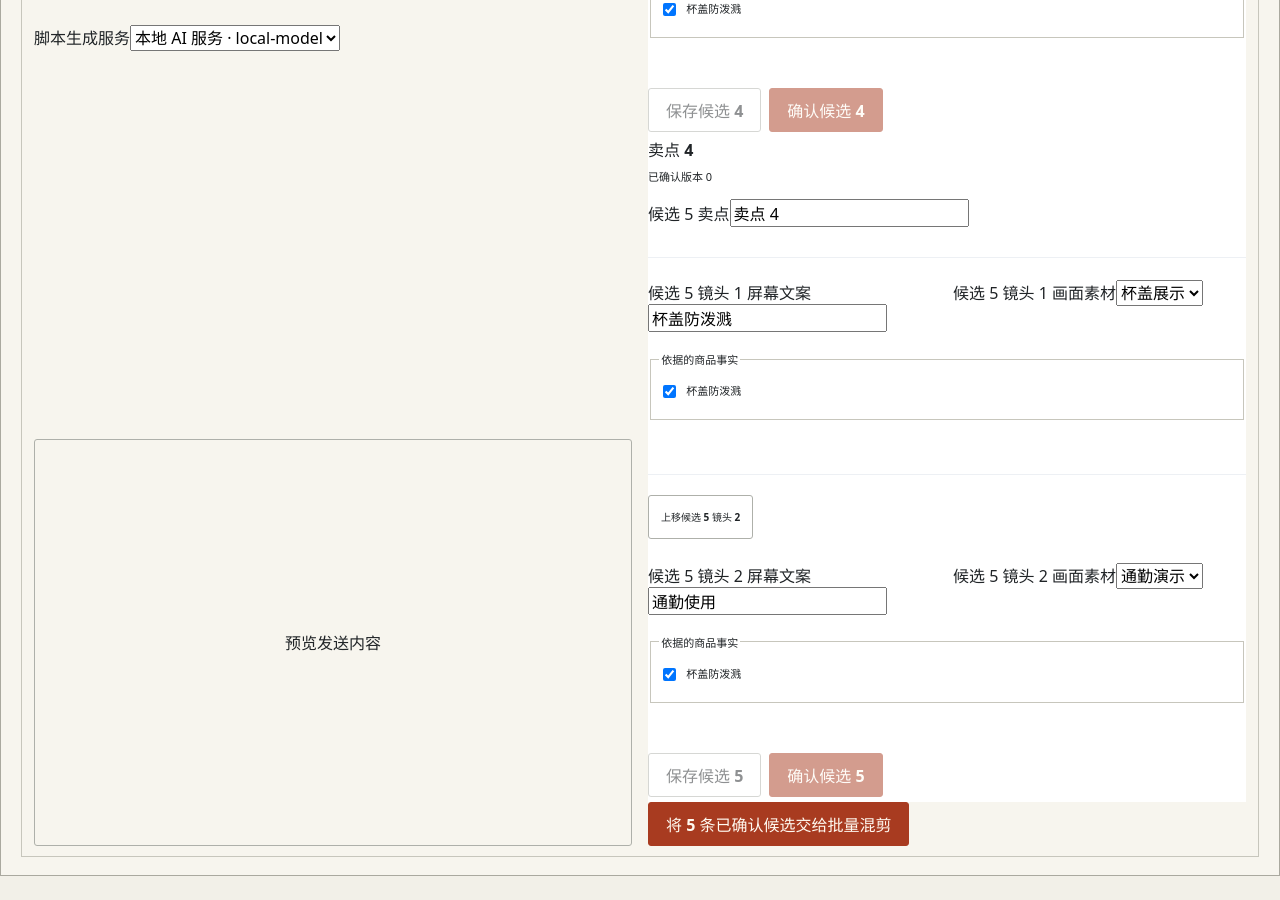
Test: 五条当前已确认候选可交给批量混剪
(page scrolled)
Click the button "将 5 条已确认候选交给批量混剪" at [779, 824], box [648, 802, 910, 846]
(page scrolled)
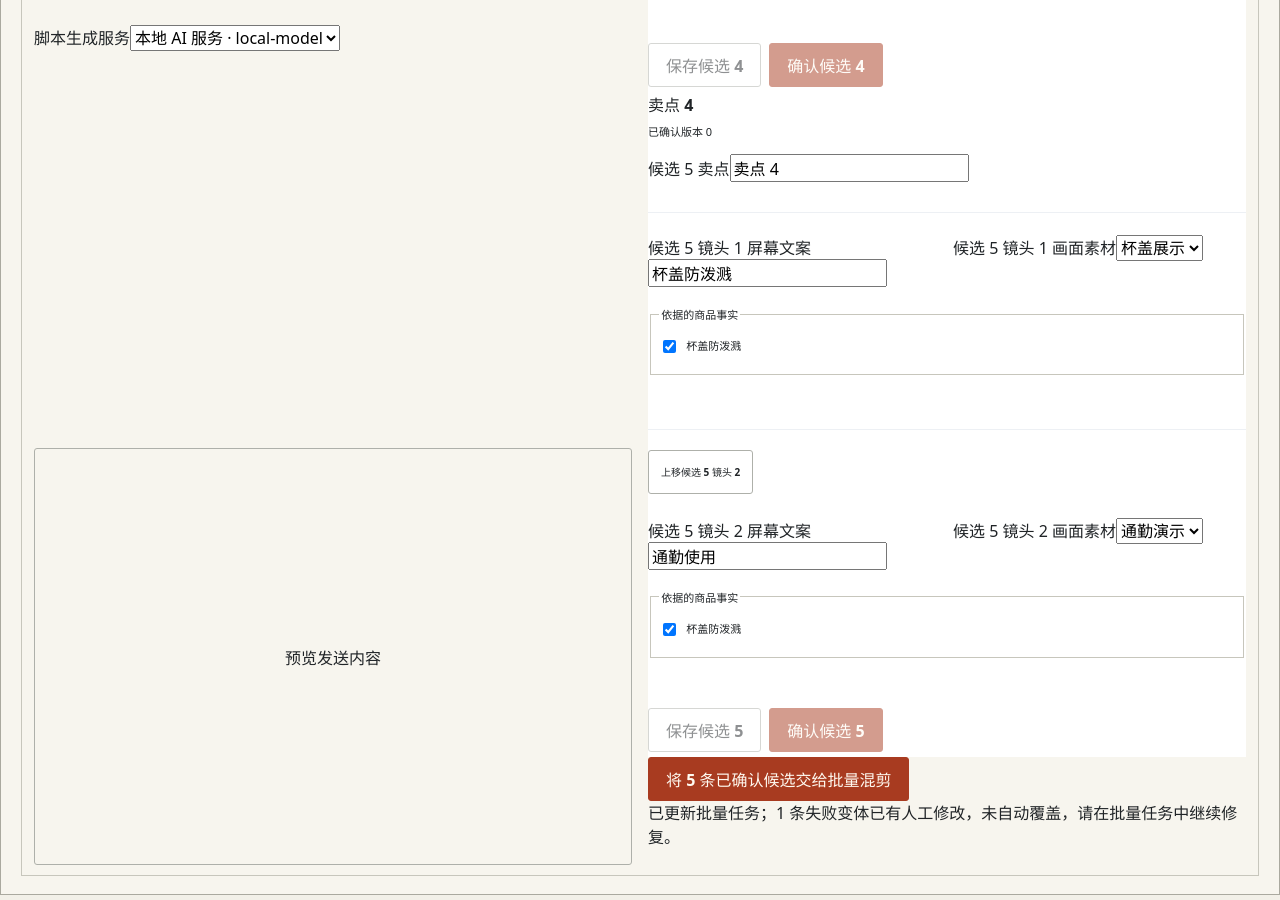
expect the text "已更新批量任务；1 条失败变体已有人工修改，未自动覆盖，请在批量任务中继续修复。" is shown: met, box [648, 801, 1246, 849]
